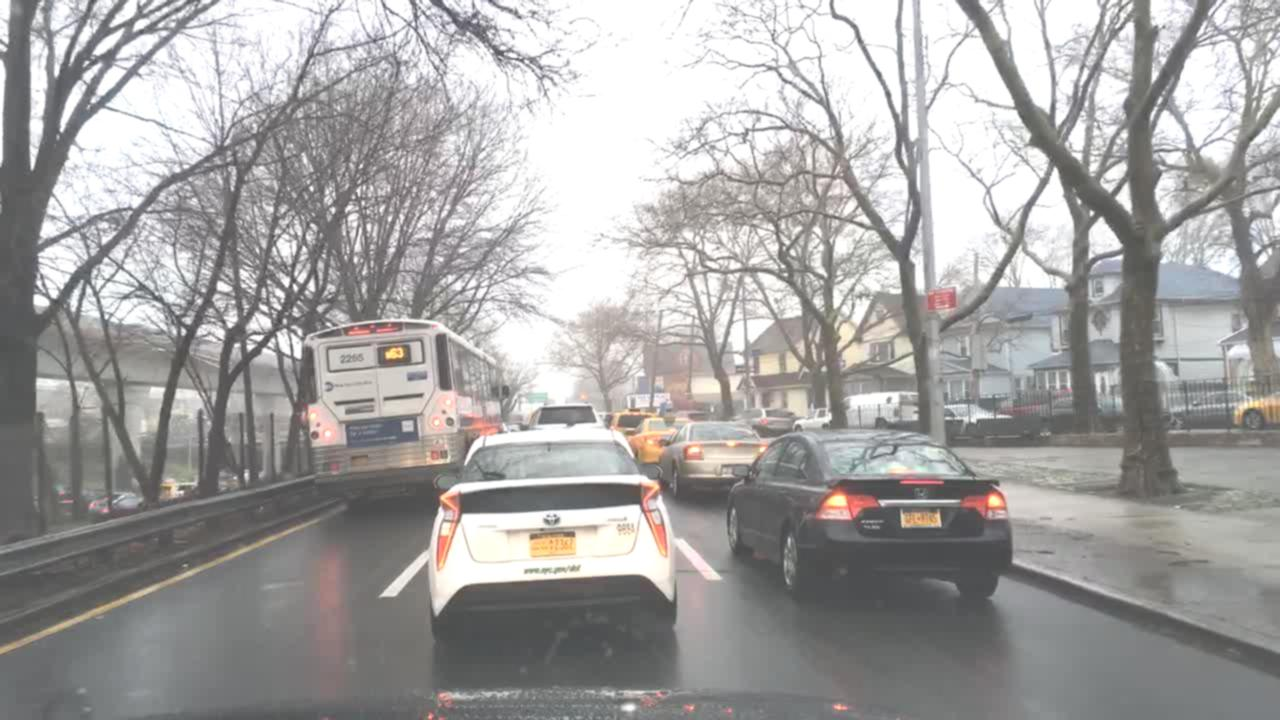Honda: (906, 483, 938, 505)
Toyota: (536, 507, 564, 529)
